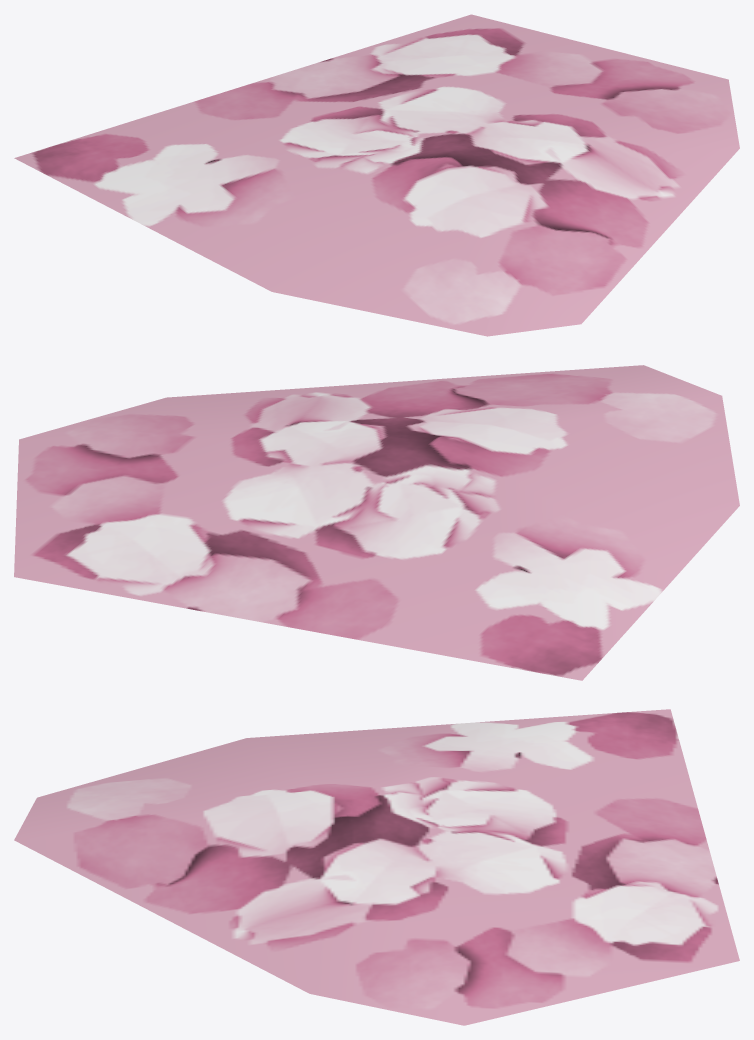
Rendered from SM_Env_CherryBlossom_Small_08.fbx.
3 views of the same model, one above another, from view 1: azimuth 30°, elevation 25°; view 2: azimuth 150°, elevation 25°; view 3: azimuth 270°, elevation 25° (orthographic). The views are drawn at different scales.
Parts seen in each view (by area): view 1: SM_Env_CherryBlossom_Small_08; view 2: SM_Env_CherryBlossom_Small_08; view 3: SM_Env_CherryBlossom_Small_08.
Boxes of the visible parts, bbox=[...] form: SM_Env_CherryBlossom_Small_08: bbox=[14, 14, 739, 336]; SM_Env_CherryBlossom_Small_08: bbox=[14, 365, 739, 680]; SM_Env_CherryBlossom_Small_08: bbox=[14, 709, 739, 1025].
Size of the model in its own units: 68.48 by 4.34 by 66.36.
